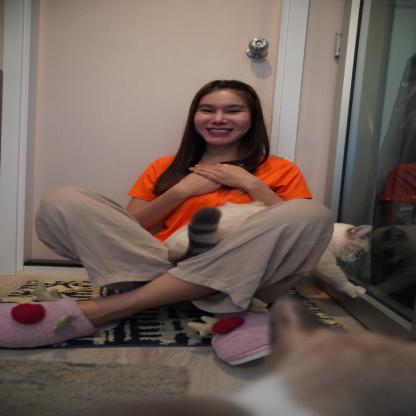Grieve: (156, 161, 276, 207)
